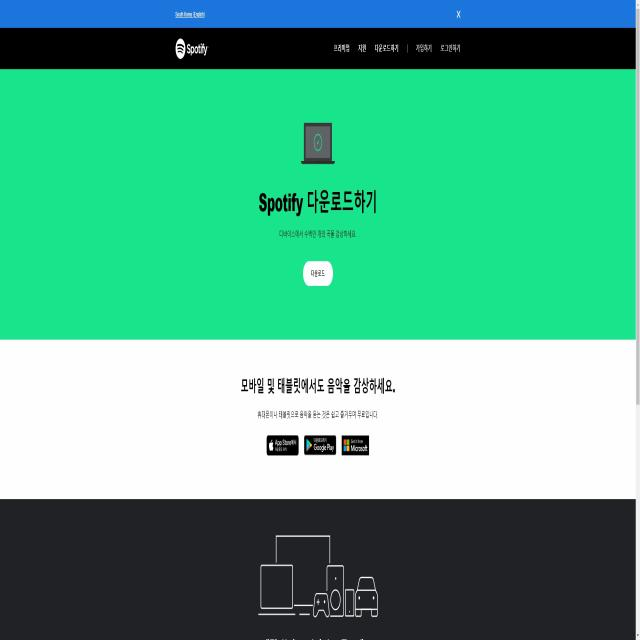menu-bar: (332, 38, 466, 62)
